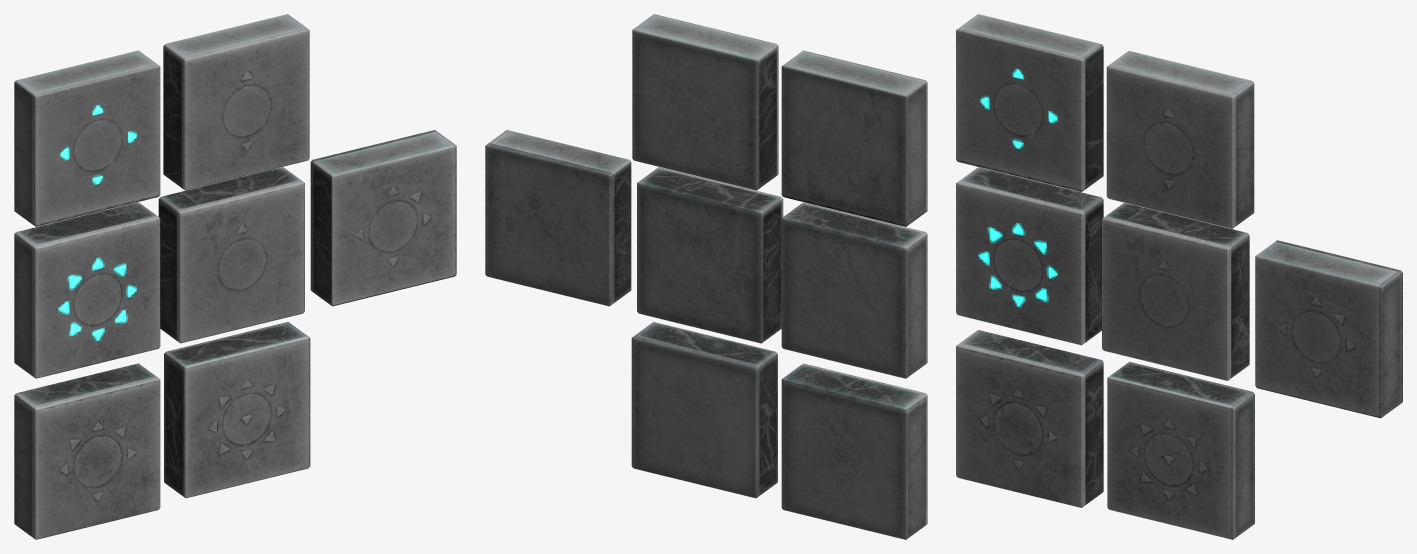
File: stonepuzzle_packA_v02.fbx
3 renders of one model, left to right at view 1: azimuth 30°, elevation 25°; view 2: azimuth 150°, elevation 25°; view 3: azimuth 330°, elevation 25°, orthographic.
Parts seen in each view (by area): view 1: stonepuzzlepack_1_3, stonepuzzlepack_1_5, stonepuzzlepack_1_6, stonepuzzlepack_1_1, stonepuzzlepack_1_2, stonepuzzlepack_1_7, stonepuzzlepack_1_4; view 2: stonepuzzlepack_1_3, stonepuzzlepack_1_5, stonepuzzlepack_1_6, stonepuzzlepack_1_1, stonepuzzlepack_1_2, stonepuzzlepack_1_7, stonepuzzlepack_1_4; view 3: stonepuzzlepack_1_6, stonepuzzlepack_1_2, stonepuzzlepack_1_1, stonepuzzlepack_1_3, stonepuzzlepack_1_4, stonepuzzlepack_1_7, stonepuzzlepack_1_5.
Part boxes in pixels (x1=…): stonepuzzlepack_1_3: x1=164, y1=322, x2=310, y2=498; stonepuzzlepack_1_5: x1=14, y1=202, x2=160, y2=378; stonepuzzlepack_1_6: x1=163, y1=14, x2=309, y2=190; stonepuzzlepack_1_1: x1=310, y1=130, x2=456, y2=306; stonepuzzlepack_1_2: x1=14, y1=363, x2=160, y2=539; stonepuzzlepack_1_7: x1=14, y1=50, x2=160, y2=226; stonepuzzlepack_1_4: x1=158, y1=167, x2=304, y2=343; stonepuzzlepack_1_3: x1=631, y1=322, x2=777, y2=498; stonepuzzlepack_1_5: x1=781, y1=202, x2=927, y2=378; stonepuzzlepack_1_6: x1=632, y1=14, x2=778, y2=190; stonepuzzlepack_1_1: x1=485, y1=130, x2=631, y2=306; stonepuzzlepack_1_2: x1=781, y1=363, x2=927, y2=539; stonepuzzlepack_1_7: x1=781, y1=50, x2=927, y2=226; stonepuzzlepack_1_4: x1=637, y1=167, x2=783, y2=343; stonepuzzlepack_1_6: x1=1106, y1=51, x2=1254, y2=228; stonepuzzlepack_1_2: x1=956, y1=330, x2=1103, y2=507; stonepuzzlepack_1_1: x1=1255, y1=240, x2=1402, y2=418; stonepuzzlepack_1_3: x1=1107, y1=361, x2=1254, y2=539; stonepuzzlepack_1_4: x1=1102, y1=203, x2=1249, y2=380; stonepuzzlepack_1_7: x1=956, y1=14, x2=1103, y2=191; stonepuzzlepack_1_5: x1=956, y1=167, x2=1103, y2=345.
Size of the model in its own units: 6.84 by 6.88 by 0.6196.
Materials: 1 (1 with a texture image).
